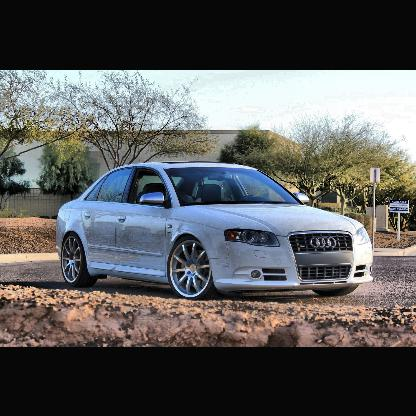Audi S4 Sedan 2007: (56, 161, 374, 299)
